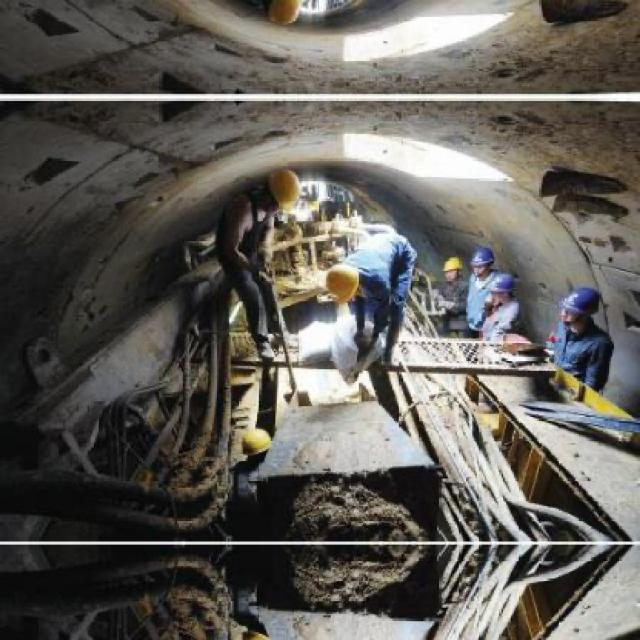con casco: (319, 239, 397, 293), (250, 149, 306, 207), (548, 278, 597, 326), (474, 266, 526, 309)
